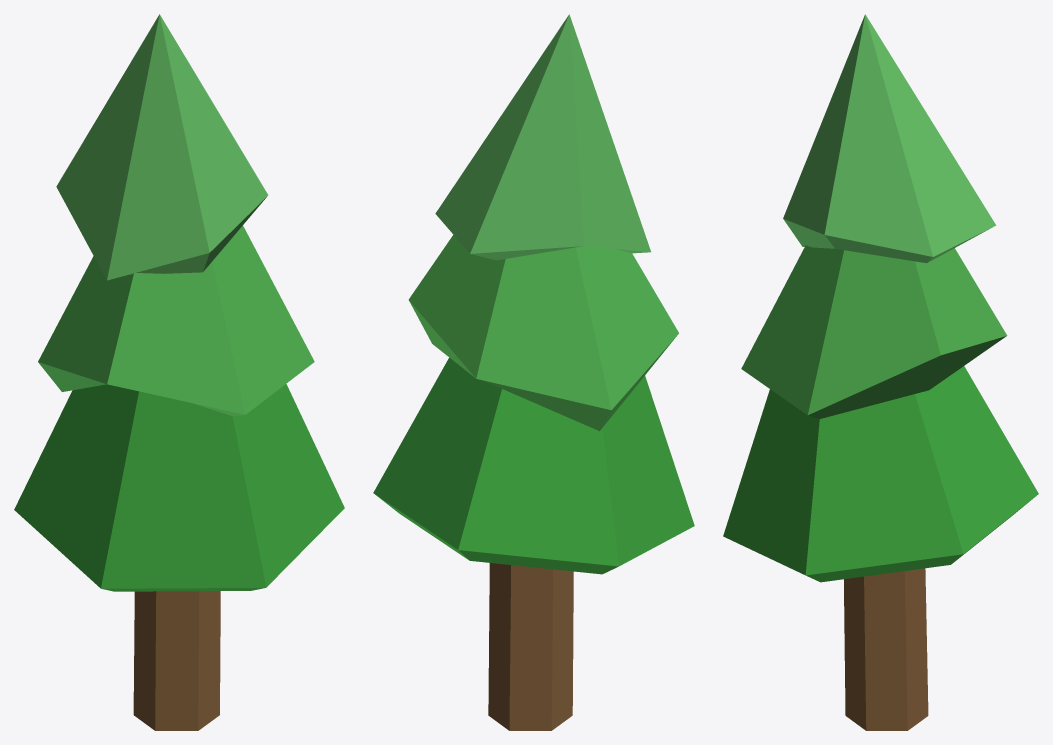
File: Model_Forest_1x1B.fbx
3 renders of one model, left to right at view 1: azimuth 30°, elevation 25°; view 2: azimuth 150°, elevation 25°; view 3: azimuth 270°, elevation 25°, orthographic. The views are drawn at different scales.
Parts seen in each view (by area): view 1: Model_Frost_1x1B; view 2: Model_Frost_1x1B; view 3: Model_Frost_1x1B.
Boxes of the visible parts, x1=… form: Model_Frost_1x1B: x1=14, y1=14, x2=344, y2=730; Model_Frost_1x1B: x1=373, y1=14, x2=694, y2=730; Model_Frost_1x1B: x1=723, y1=14, x2=1038, y2=730.
Size of the model in its own units: 146 by 397 by 165.
Materials: 1 (1 with a texture image).
